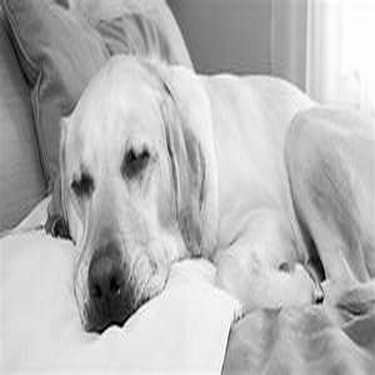dog: (40, 44, 371, 344)
